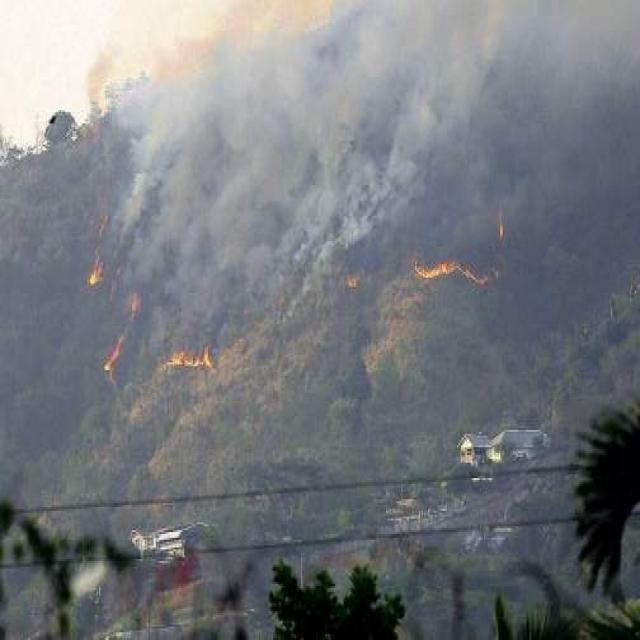Fire: (99, 287, 139, 382), (406, 248, 494, 289), (156, 340, 220, 380), (85, 213, 104, 289), (495, 208, 507, 244)
Smoke: (108, 0, 640, 286), (83, 0, 164, 129)
